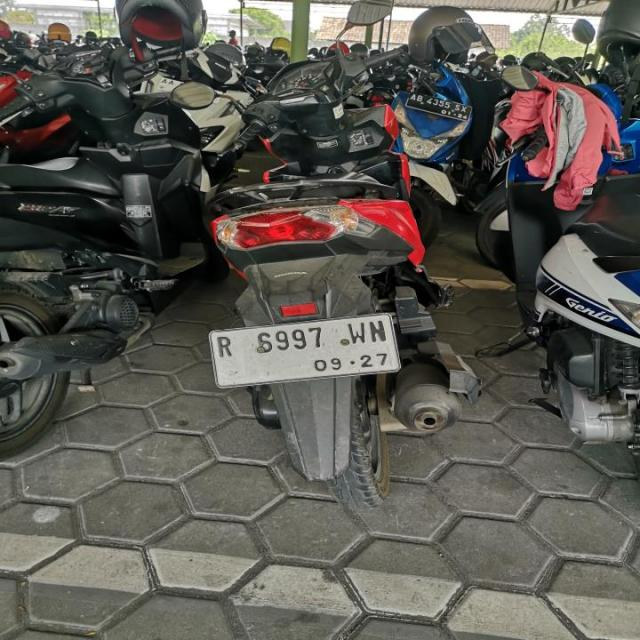License Plate: (202, 314, 402, 386), (406, 92, 473, 122)
